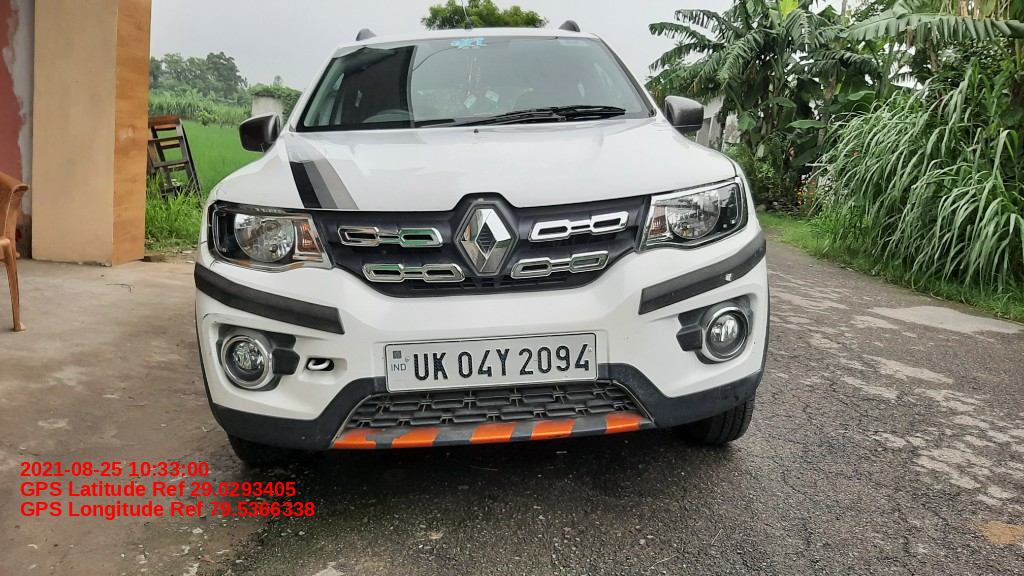Scratched: (203, 333, 215, 359), (209, 183, 226, 201), (208, 252, 221, 272), (200, 309, 212, 328), (622, 331, 635, 346), (198, 233, 209, 249)
